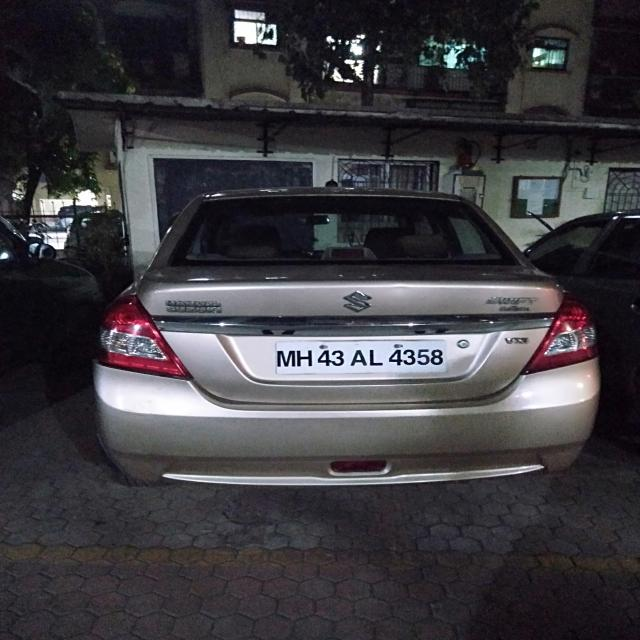Number-Plate: (282, 343, 462, 373)
